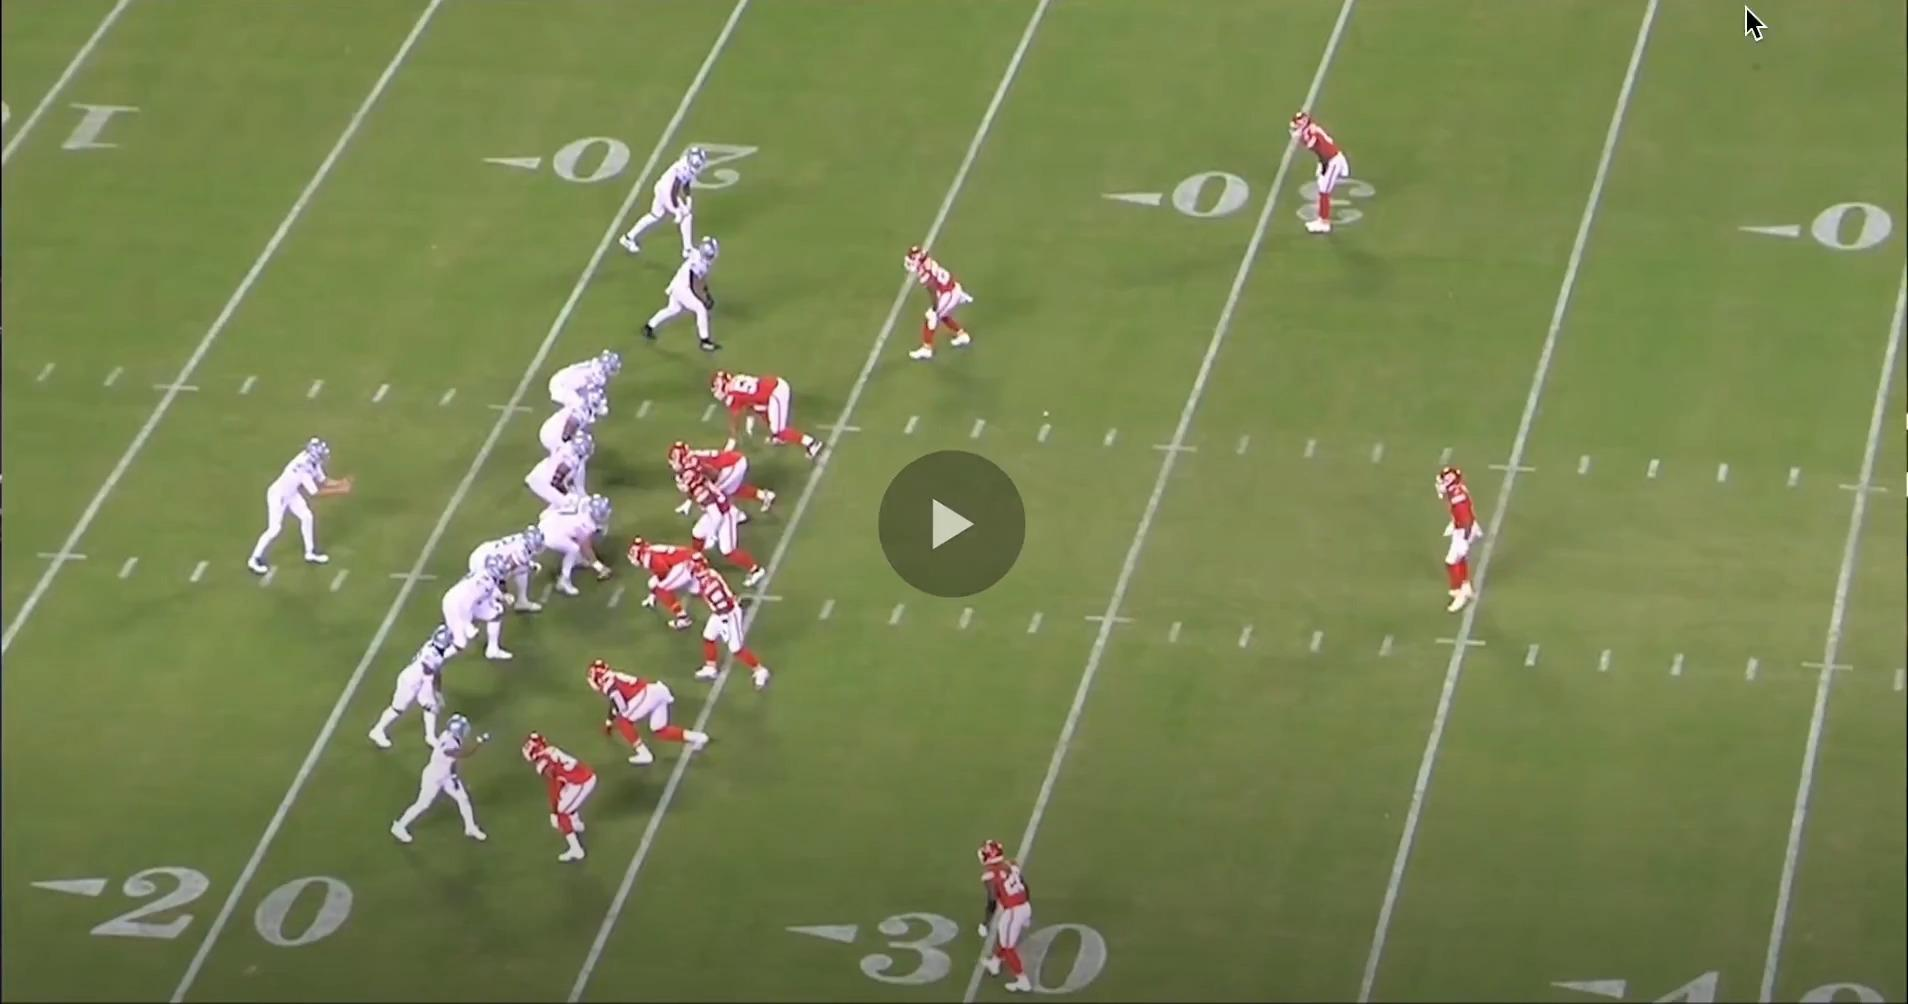player: (255, 428, 362, 578), (388, 709, 491, 851), (591, 659, 716, 766), (367, 621, 464, 756), (615, 139, 715, 261), (691, 559, 778, 690), (683, 467, 776, 589), (516, 732, 596, 872), (707, 370, 825, 461), (639, 234, 727, 355), (975, 837, 1042, 995), (528, 496, 616, 605), (1427, 465, 1487, 622), (431, 558, 515, 668), (1291, 109, 1359, 244), (674, 439, 785, 518), (465, 523, 545, 629), (911, 243, 981, 364), (625, 539, 708, 633), (521, 438, 591, 522), (546, 351, 624, 418), (528, 393, 598, 455)
ref: (1730, 2, 1771, 44)
